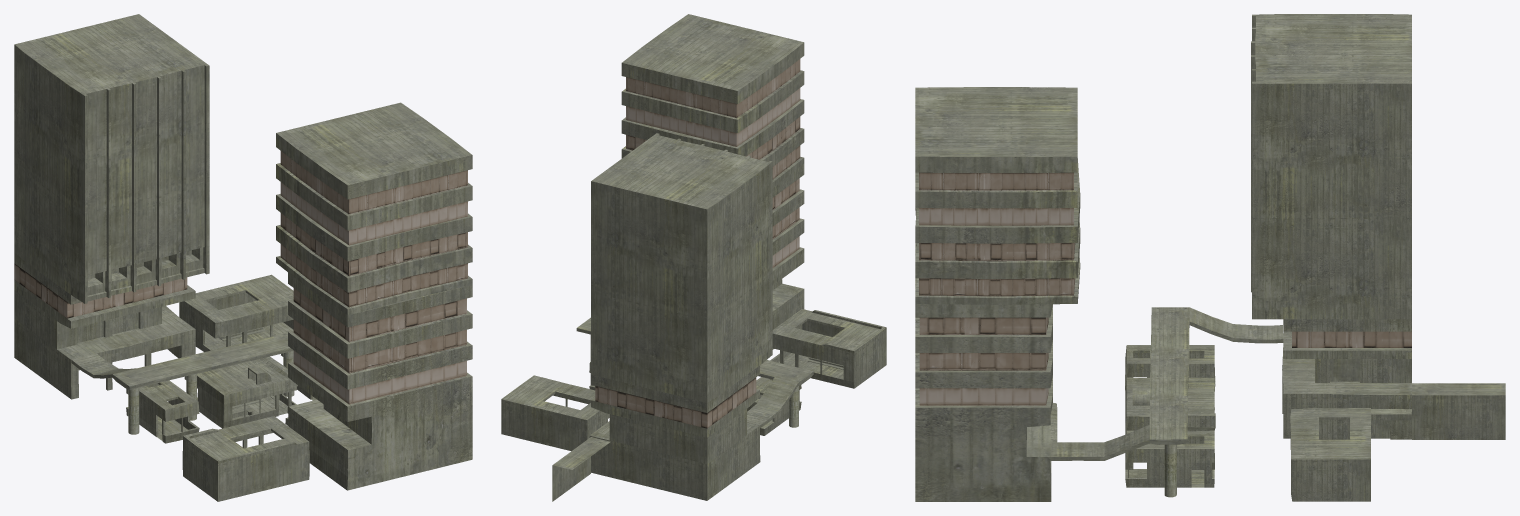
3 renders of one model, left to right at view 1: azimuth 30°, elevation 25°; view 2: azimuth 150°, elevation 25°; view 3: azimuth 270°, elevation 25°, orthographic. The views are drawn at different scales.
Visible parts, largest first — view 1: SM_HK_02_00.004, SM_HK_02_00.003, SM_HK_02_00, SM_HK_02_0345; view 2: SM_HK_02_00.004, SM_HK_02_00.003, SM_HK_02_00; view 3: SM_HK_02_00.004, SM_HK_02_00.003, SM_HK_02_00.
Boxes of the visible parts, bbox=[...] form: SM_HK_02_00.004: bbox=[14, 14, 293, 399]; SM_HK_02_00.003: bbox=[182, 102, 472, 501]; SM_HK_02_00: bbox=[126, 351, 316, 443]; SM_HK_02_0345: bbox=[219, 327, 279, 418]; SM_HK_02_00.004: bbox=[501, 133, 813, 501]; SM_HK_02_00.003: bbox=[621, 14, 886, 388]; SM_HK_02_00: bbox=[589, 335, 822, 435]; SM_HK_02_00.004: bbox=[1048, 14, 1505, 501]; SM_HK_02_00.003: bbox=[915, 87, 1080, 501]; SM_HK_02_00: bbox=[1125, 345, 1215, 497].
Size of the model in its own units: 3835 by 4759 by 7143.
